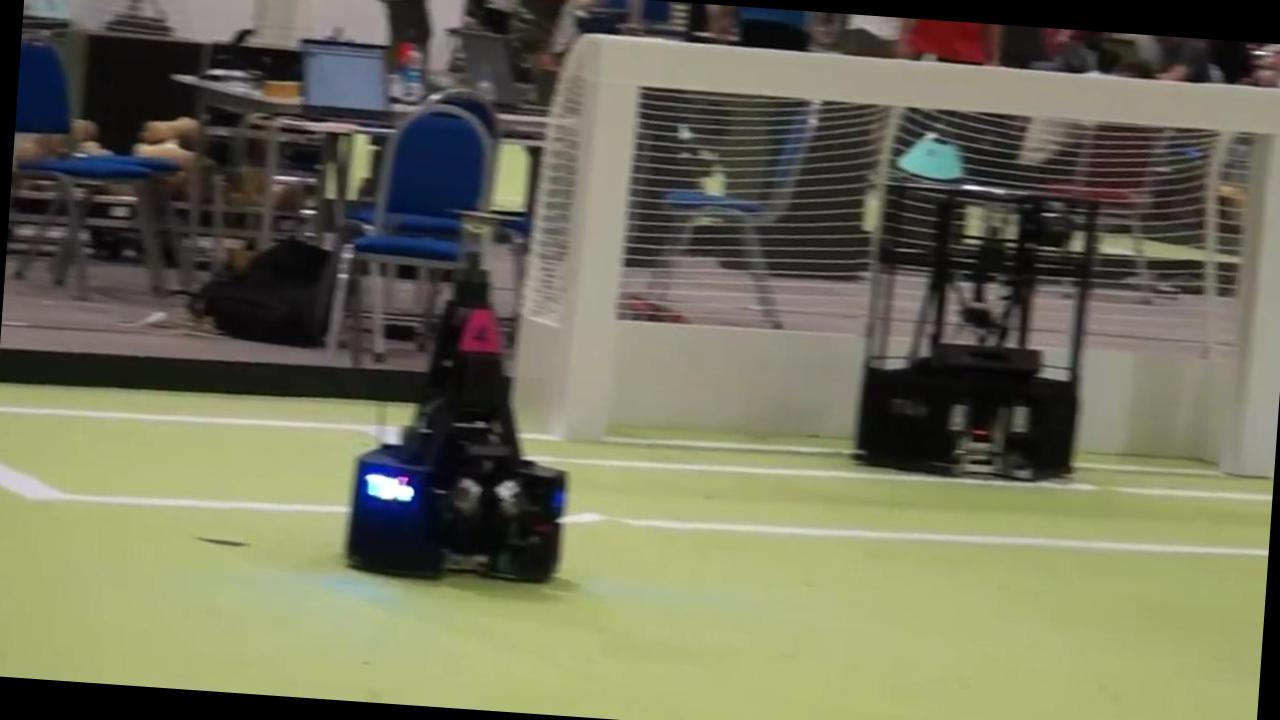goal: (550, 39, 640, 438), (1239, 90, 1280, 473)
robot: (856, 174, 1097, 479), (346, 251, 565, 581)
